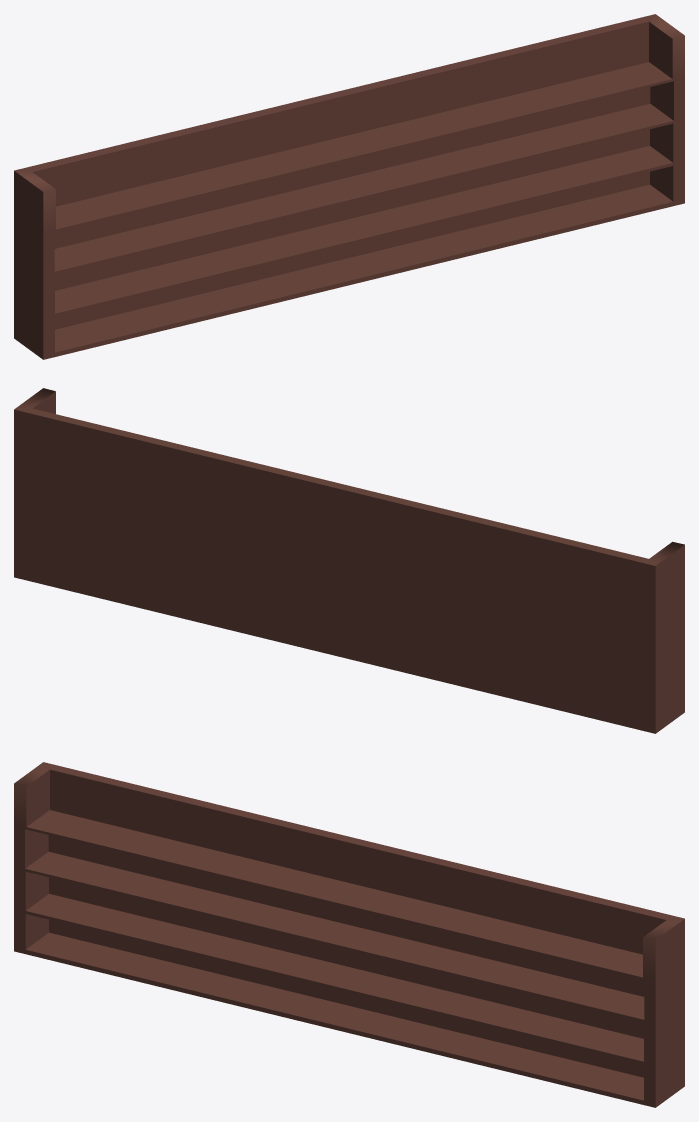
Rendered from armario.fbx.
The picture shows the model from 3 angles, top to bottom: view 1: azimuth 30°, elevation 25°; view 2: azimuth 150°, elevation 25°; view 3: azimuth 330°, elevation 25°; orthographic projection.
Visible parts, largest first — view 1: armario; view 2: armario; view 3: armario.
Part boxes in pixels (x1,y1,x2,y2): armario: (14, 14, 684, 359); armario: (14, 388, 684, 733); armario: (14, 762, 684, 1107).
Size of the model in its own units: 800 by 200 by 63.49.
